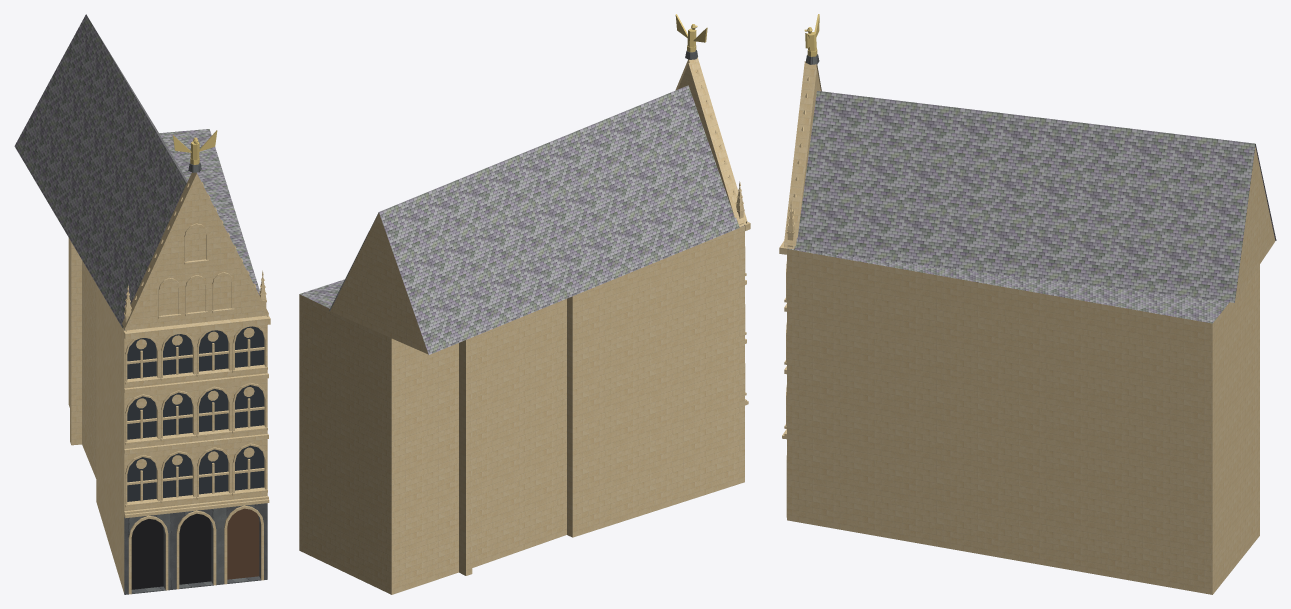
3 views of the same model, side by side, from view 1: azimuth 30°, elevation 25°; view 2: azimuth 150°, elevation 25°; view 3: azimuth 270°, elevation 25° (orthographic). The views are drawn at different scales.
Visible parts, largest first — view 1: bldg_496929322_landmark; view 2: bldg_496929322_landmark; view 3: bldg_496929322_landmark.
Part boxes in pixels (box(x1,y1,x2,y2)): bldg_496929322_landmark: box(14, 14, 270, 594); bldg_496929322_landmark: box(299, 14, 750, 594); bldg_496929322_landmark: box(779, 14, 1276, 594).
Size of the model in its own units: 17.52 by 27.67 by 26.73.
Materials: 7 (3 with a texture image).
